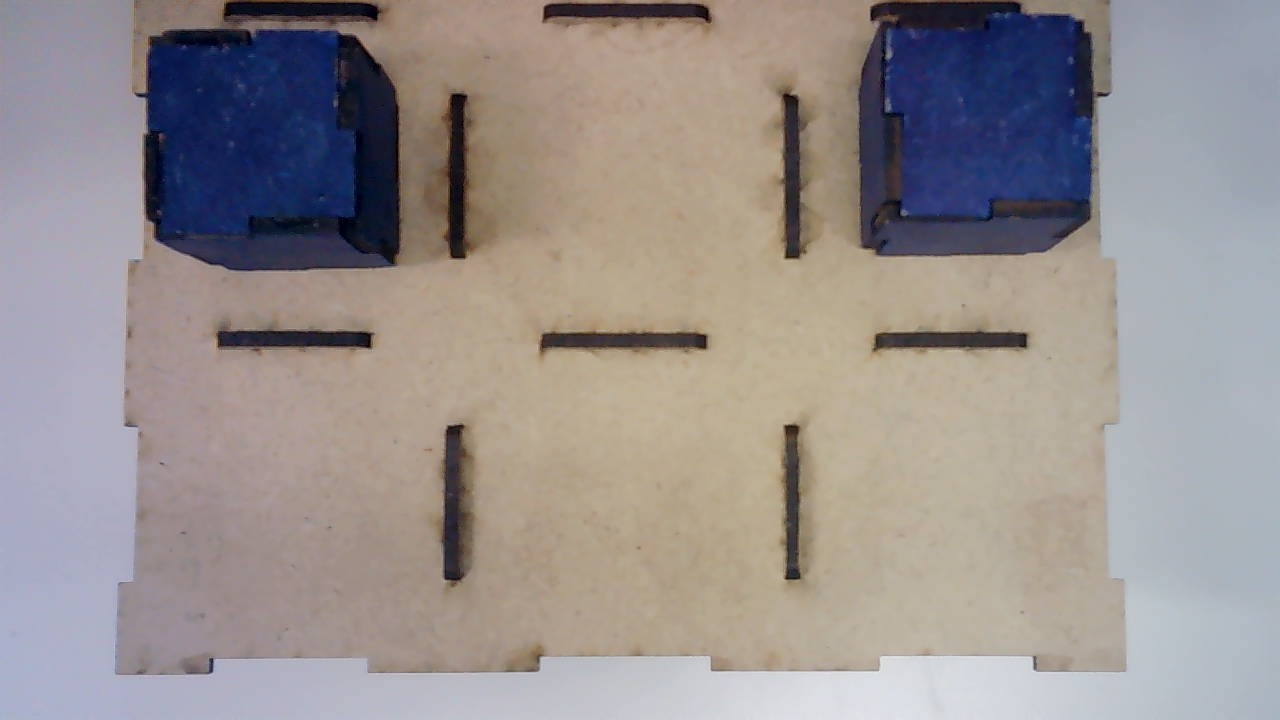blue box: (141, 30, 399, 271), (856, 17, 1095, 257)
